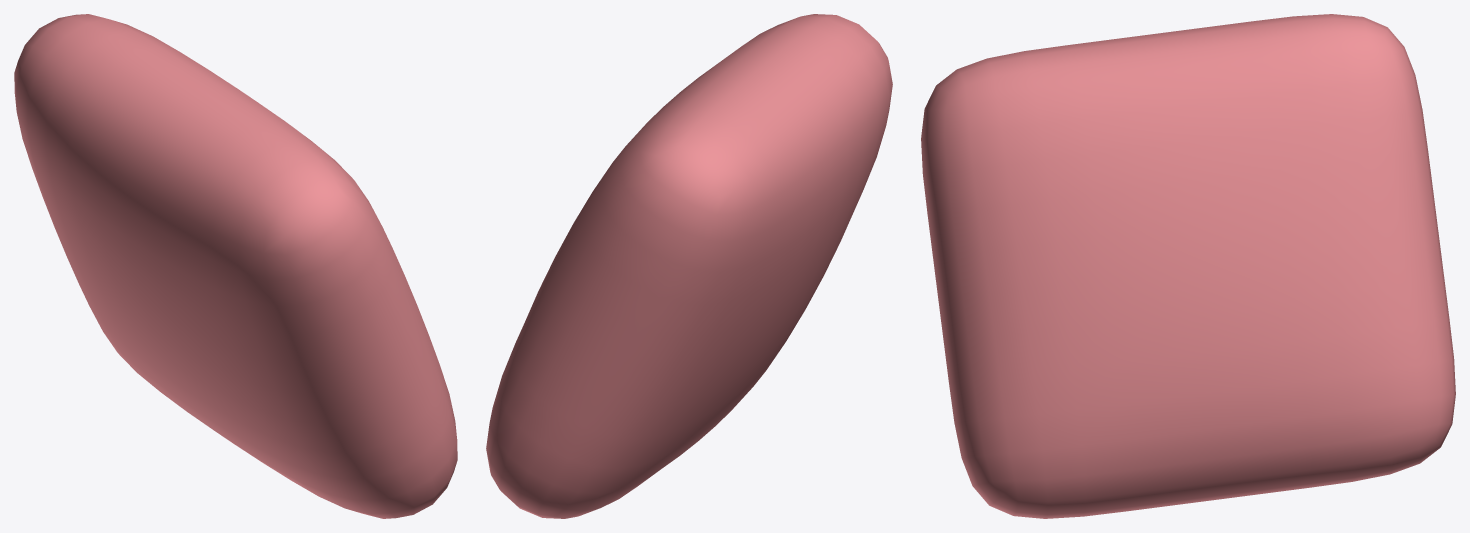
Rendered from pillow02.fbx.
The picture shows the model from 3 angles, left to right: view 1: azimuth 30°, elevation 25°; view 2: azimuth 150°, elevation 25°; view 3: azimuth 270°, elevation 25°; orthographic projection.
Visible parts, largest first — view 1: cushion.002; view 2: cushion.002; view 3: cushion.002.
Boxes of the visible parts, x1,y1,x2,y2 form: cushion.002: (14,14,457,518); cushion.002: (486,14,892,518); cushion.002: (921,14,1455,518).
Size of the model in its own units: 86.31 by 125 by 144.
